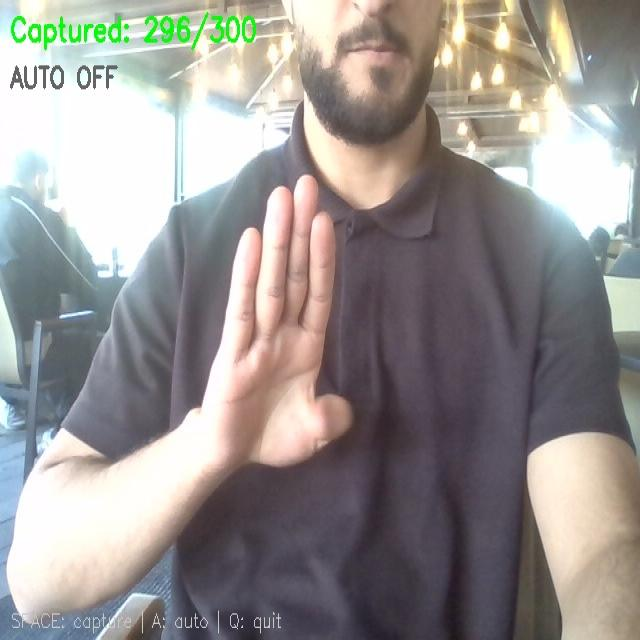Hand: (200, 176, 351, 467)
